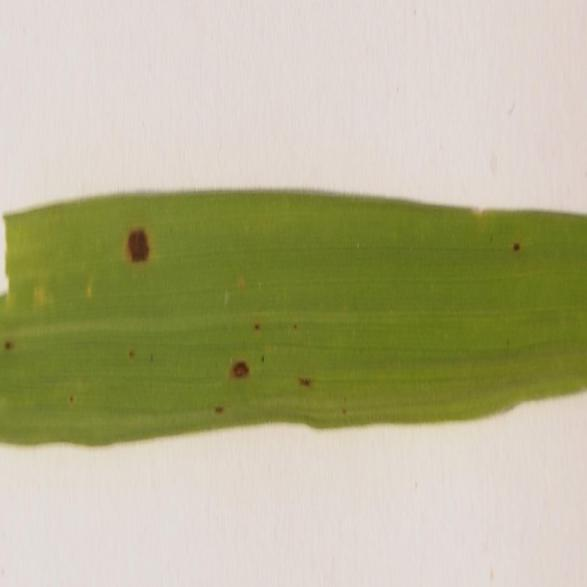Brown_Spot: (125, 200, 155, 280), (0, 313, 29, 385), (286, 346, 320, 401), (226, 329, 250, 401), (507, 212, 527, 265)
